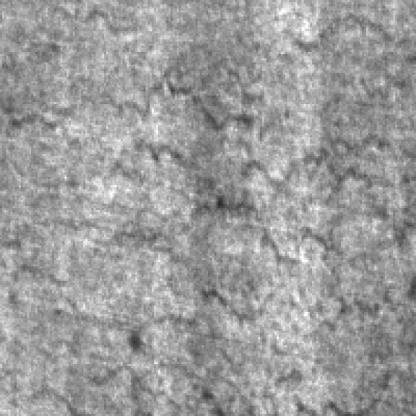crazing: (204, 6, 416, 366), (35, 29, 333, 193), (48, 187, 306, 350)
